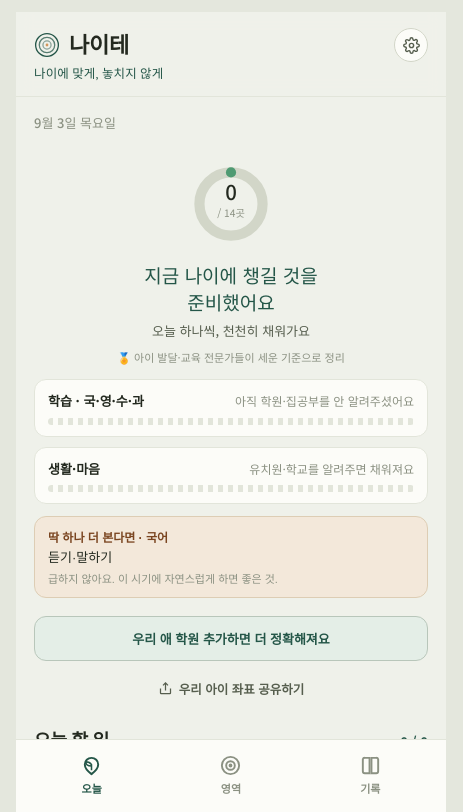
Test: ⭐ 기록 탭 — 지난 날 backfill (보강 B · 회귀 방지) › 미래 날짜 버튼은 비활성이다
Click the button "기록" at (370,775), box left=301, top=748, right=440, bottom=802
(page scrolled)
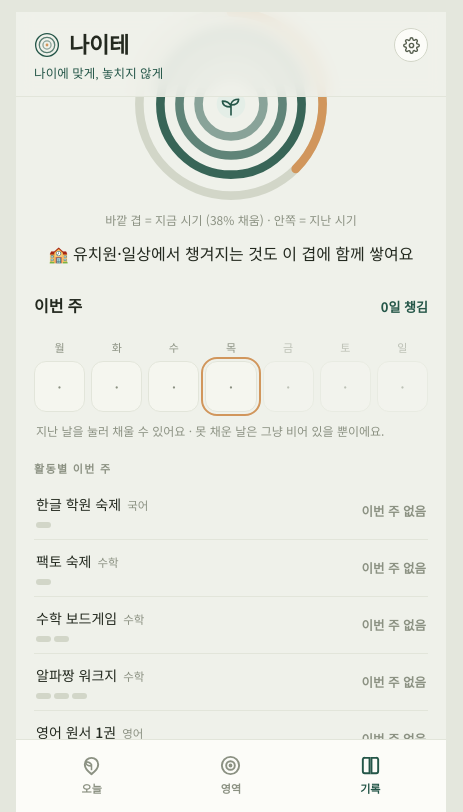
Expected: the element with test id "view-log" is shown
Expected: the button with test id "wd-2026-09-05" is disabled, left=320, top=339, right=371, bottom=412
